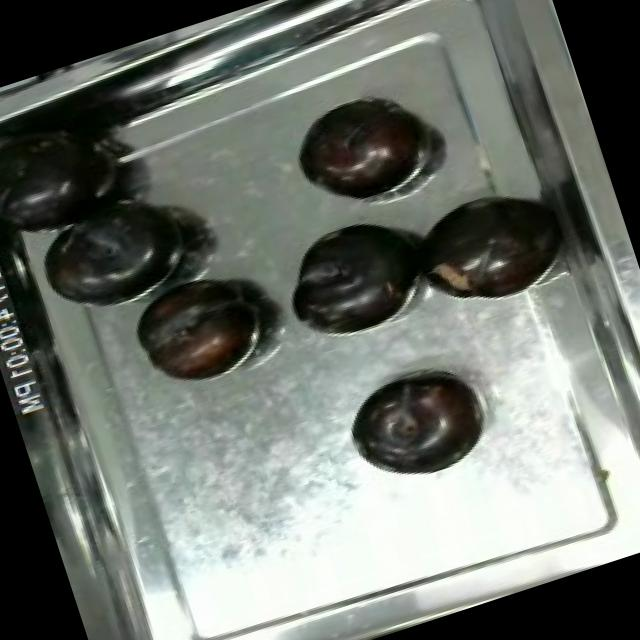Fruit: (17, 170, 208, 331), (264, 200, 434, 350), (337, 353, 502, 498), (409, 176, 570, 320), (280, 82, 440, 224), (118, 260, 278, 400)
